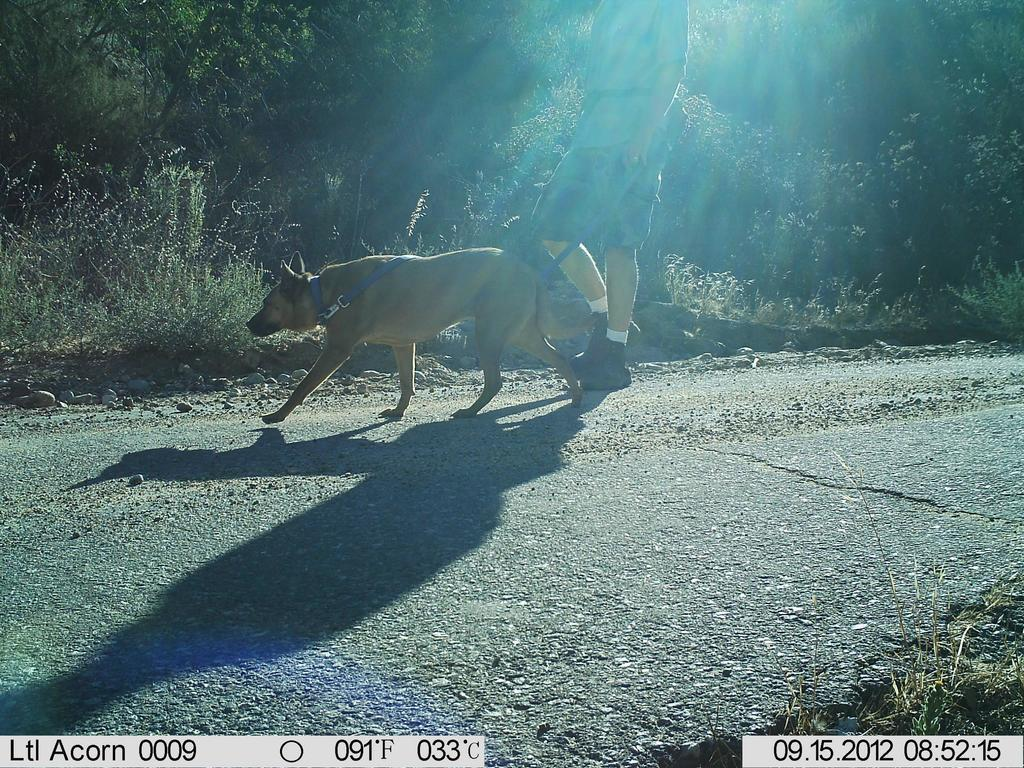dog: (241, 246, 593, 429)
